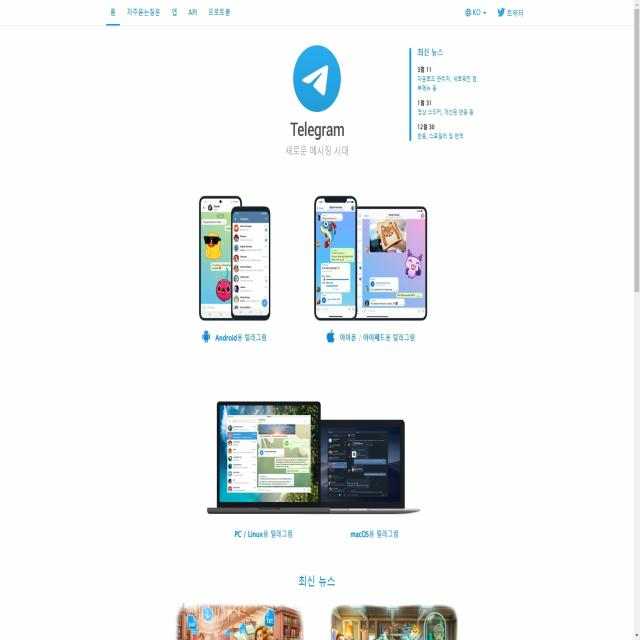menu-bar: (99, 1, 237, 28), (461, 4, 528, 22)
